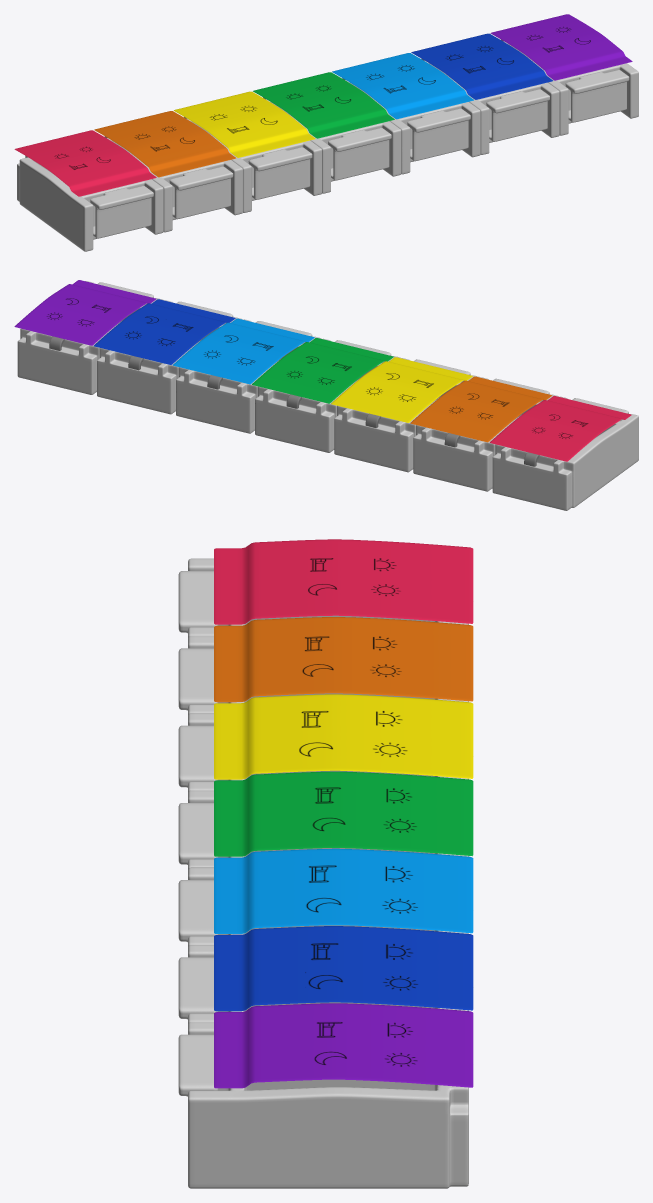
3 views of the same model, one above another, from view 1: azimuth 30°, elevation 25°; view 2: azimuth 150°, elevation 25°; view 3: azimuth 270°, elevation 25° (orthographic). The views are drawn at different scales.
Visible parts, largest first — view 1: BOX_Bottom0, BOX_Top0, BOX_Top1, BOX_Top5, BOX_Top6, BOX_Top3, BOX_Top2, BOX_Top4, BOX_Bottom1, BOX_Bottom4, BOX_Bottom6, BOX_Bottom5 (+2 smaller); view 2: BOX_Bottom0, BOX_Top1, BOX_Top2, BOX_Top4, BOX_Top5, BOX_Top0, BOX_Top6, BOX_Top3, BOX_Bottom1, BOX_Bottom6, BOX_Bottom2, BOX_Bottom3 (+2 smaller); view 3: BOX_Bottom6, BOX_Top1, BOX_Top5, BOX_Top4, BOX_Top3, BOX_Top0, BOX_Top6, BOX_Top2, BOX_Bottom0, BOX_Bottom1, BOX_Bottom2, BOX_Bottom3 (+2 smaller).
Boxes of the visible parts, bbox=[...] form: BOX_Bottom0: bbox=[17, 156, 163, 251]; BOX_Top0: bbox=[14, 130, 156, 196]; BOX_Top1: bbox=[94, 111, 235, 177]; BOX_Top5: bbox=[411, 33, 553, 99]; BOX_Top6: bbox=[490, 14, 632, 80]; BOX_Top3: bbox=[253, 72, 394, 138]; BOX_Top2: bbox=[174, 91, 315, 157]; BOX_Top4: bbox=[332, 53, 473, 119]; BOX_Bottom1: bbox=[104, 136, 242, 232]; BOX_Bottom4: bbox=[342, 78, 480, 174]; BOX_Bottom6: bbox=[500, 39, 638, 135]; BOX_Bottom5: bbox=[421, 58, 559, 154]; BOX_Bottom0: bbox=[492, 396, 638, 510]; BOX_Top1: bbox=[410, 376, 552, 442]; BOX_Top2: bbox=[331, 357, 472, 422]; BOX_Top4: bbox=[173, 318, 314, 384]; BOX_Top5: bbox=[94, 299, 235, 364]; BOX_Top0: bbox=[490, 396, 631, 461]; BOX_Top6: bbox=[14, 280, 155, 345]; BOX_Top3: bbox=[252, 338, 393, 403]; BOX_Bottom1: bbox=[413, 377, 559, 491]; BOX_Bottom6: bbox=[17, 281, 163, 394]; BOX_Bottom2: bbox=[334, 358, 479, 472]; BOX_Bottom3: bbox=[255, 338, 400, 452]; BOX_Bottom6: bbox=[178, 1022, 468, 1188]; BOX_Top1: bbox=[214, 617, 473, 702]; BOX_Top5: bbox=[214, 926, 473, 1011]; BOX_Top4: bbox=[214, 848, 473, 933]; BOX_Top3: bbox=[214, 771, 473, 856]; BOX_Top0: bbox=[214, 539, 473, 624]; BOX_Top6: bbox=[214, 1003, 473, 1088]; BOX_Top2: bbox=[214, 694, 473, 779]; BOX_Bottom0: bbox=[178, 558, 468, 638]; BOX_Bottom1: bbox=[178, 636, 468, 715]; BOX_Bottom2: bbox=[178, 713, 468, 792]; BOX_Bottom3: bbox=[178, 790, 468, 869].
Size of the model in its own units: 25.55 by 2.43 by 5.9.
Materials: 3 (1 with a texture image).
